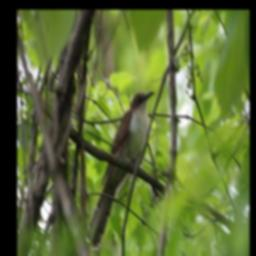Cuckoo: (86, 87, 156, 251)
